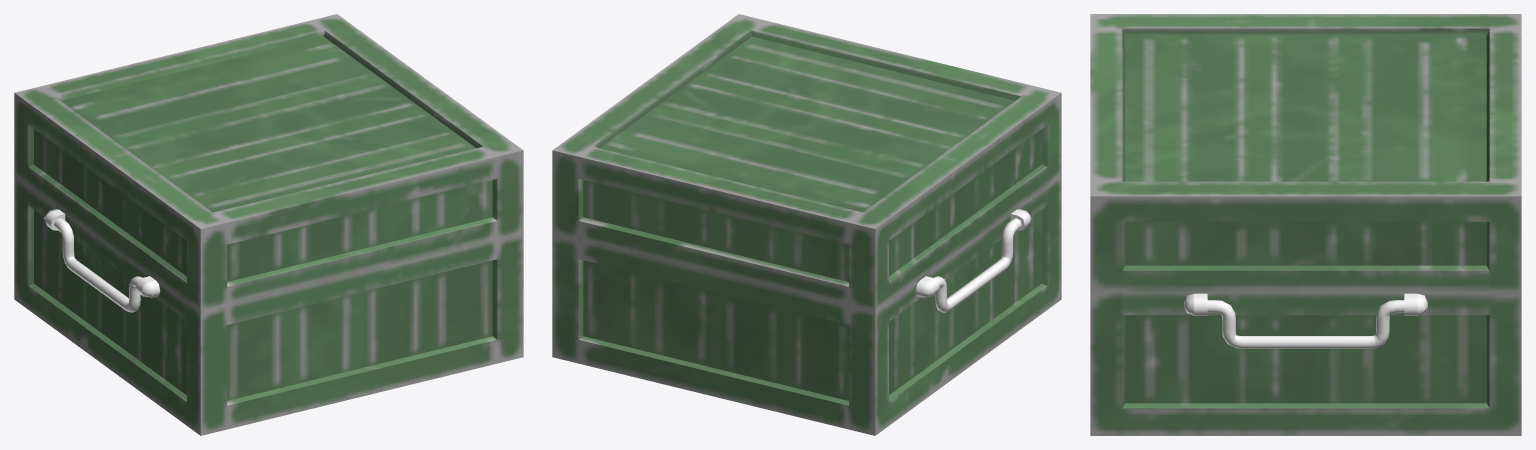
Rendered from Prfb_Sundries.fbx.
The picture shows the model from 3 angles, left to right: view 1: azimuth 30°, elevation 25°; view 2: azimuth 150°, elevation 25°; view 3: azimuth 270°, elevation 25°; orthographic projection. The views are drawn at different scales.
Parts seen in each view (by area): view 1: Mat_Lootbox_01; view 2: Mat_Lootbox_01; view 3: Mat_Lootbox_01.
Part boxes in pixels (x1,y1,x2,y2): Mat_Lootbox_01: (14,14,523,435); Mat_Lootbox_01: (552,14,1061,435); Mat_Lootbox_01: (1090,14,1521,435).
Bounding box in the file's own units: 0.8039 × 0.453 × 0.7393.
1 material, 1 textured.
